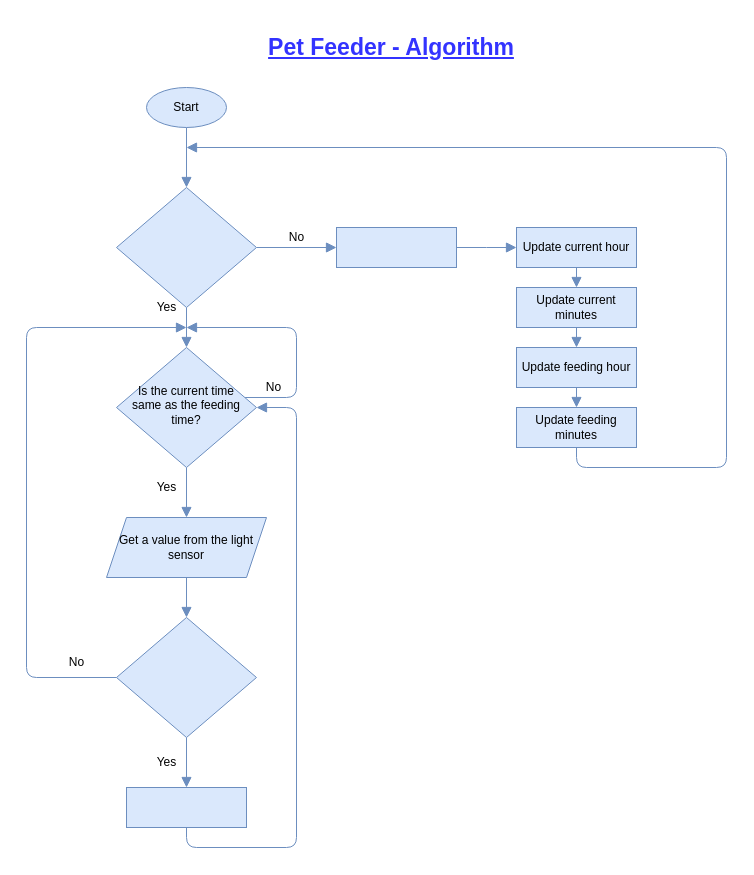
Some shapes in this 754 by 875 pixel diagram are drawn without their labels. The centre of each missing label's shape, as x and y in pixels:
"Is the current time and feeding time up to date?" goes at (186,247).
"Is the food bowl empty?" goes at (186,677).
"Put food in the bowl (using a servo motor)" goes at (186,807).
"Set Button" goes at (396,247).
